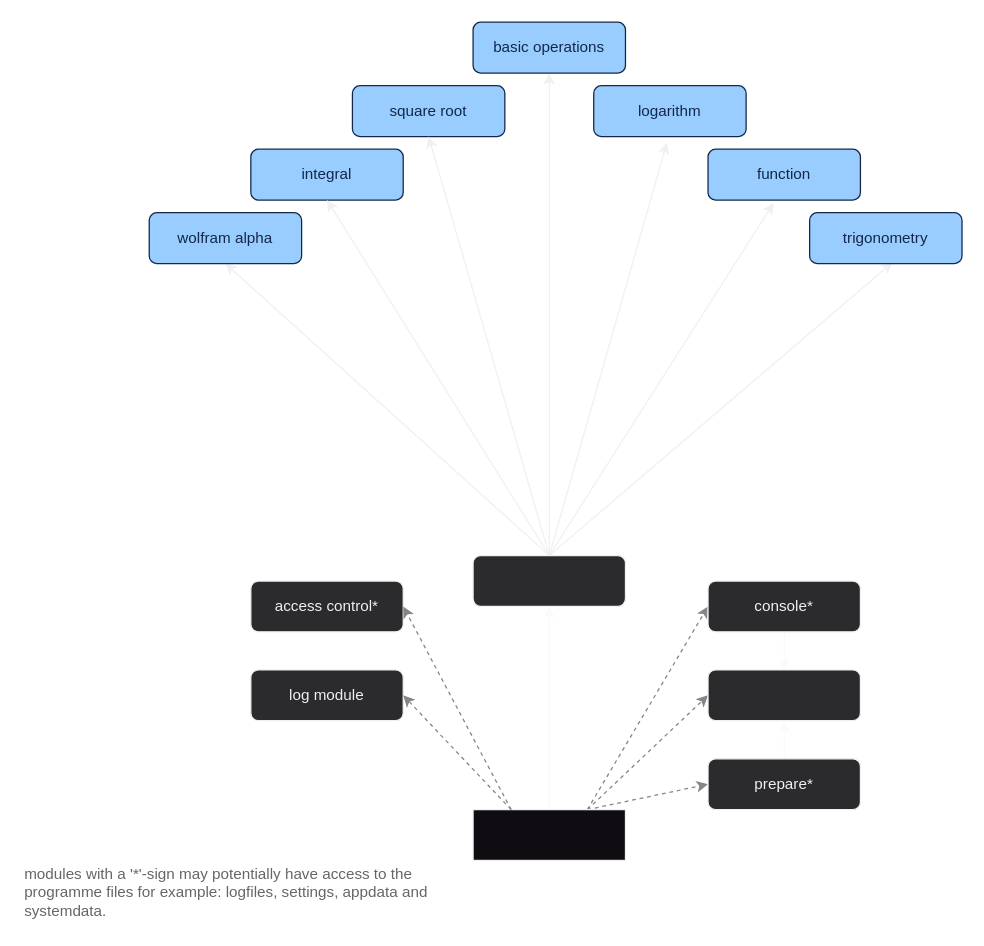
Image size: 984x946. Some labels were removed from this diagram. The centre of each missing label's shape, as x and y in pixels:
"main" goes at pixel 548 834.
"manager (OAM)" goes at pixel 548 580.
"system*" goes at pixel 783 695.
